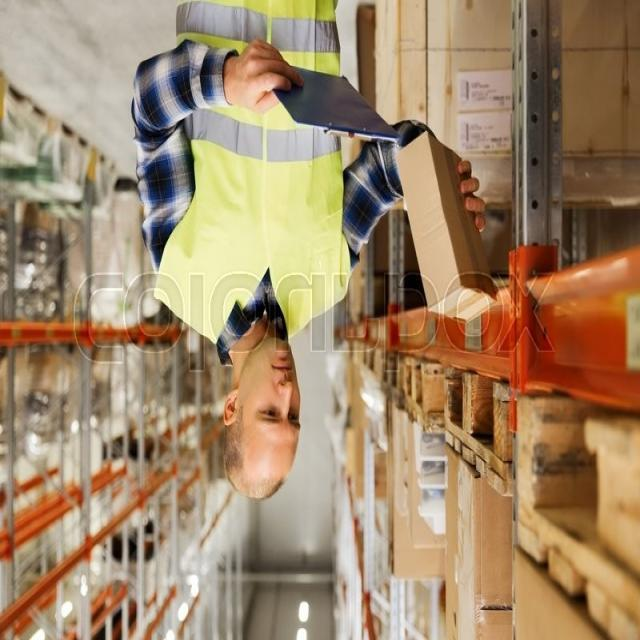Vest: (158, 0, 352, 338)
